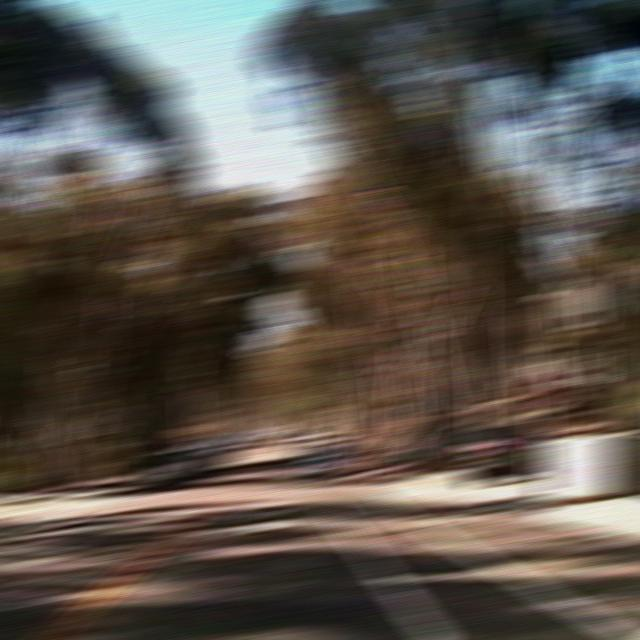stop: (524, 373, 559, 404)
